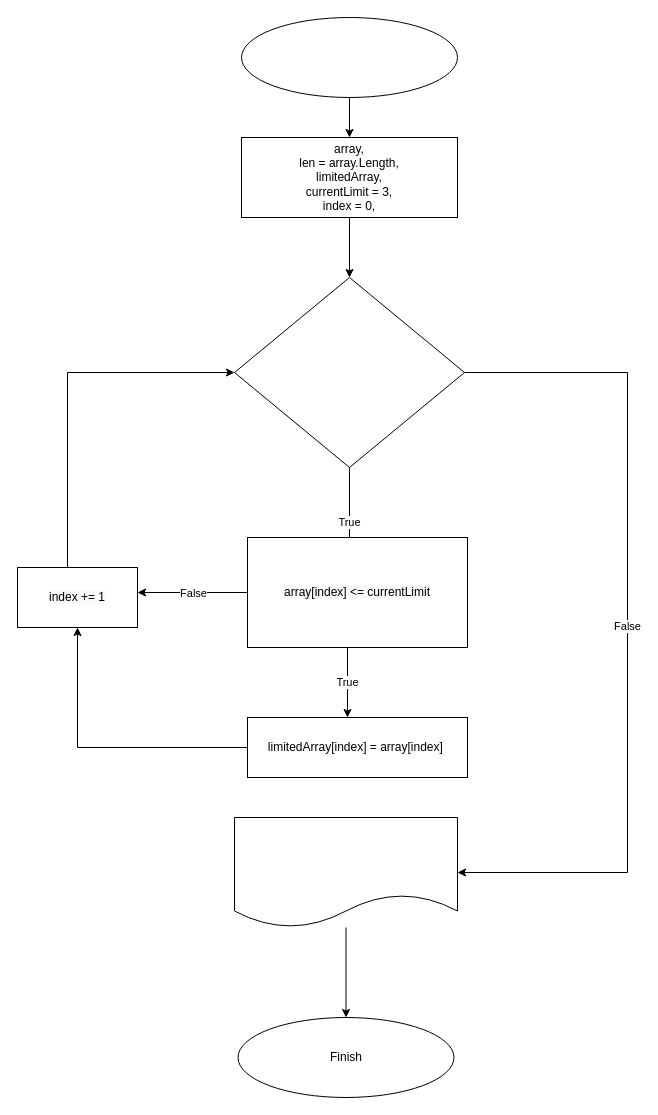
Image size: 658x1115. Some labels were removed from this diagram. Here are the shapes that lost their labels. From the top down, the box of each, then its label:
(240, 16, 458, 98): Start
(234, 276, 464, 468): index < len
(234, 816, 458, 928): limitedArray
